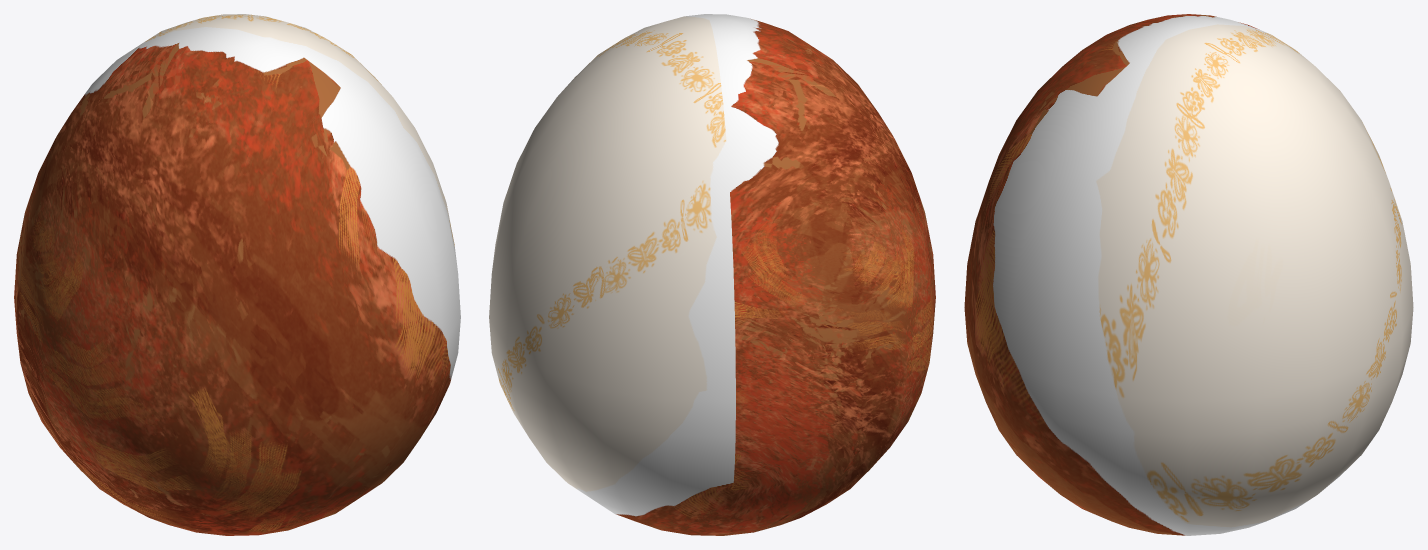
The model's file is egg.obj.
3 renders of one model, left to right at view 1: azimuth 30°, elevation 25°; view 2: azimuth 150°, elevation 25°; view 3: azimuth 270°, elevation 25°, orthographic.
Visible parts, largest first — view 1: pSphere3; view 2: pSphere3; view 3: pSphere3.
Boxes of the visible parts, x1,y1,x2,y2 form: pSphere3: (14,14,460,535); pSphere3: (489,14,935,535); pSphere3: (964,14,1413,535).
Size of the model in its own units: 2.17 by 2.59 by 2.17.
